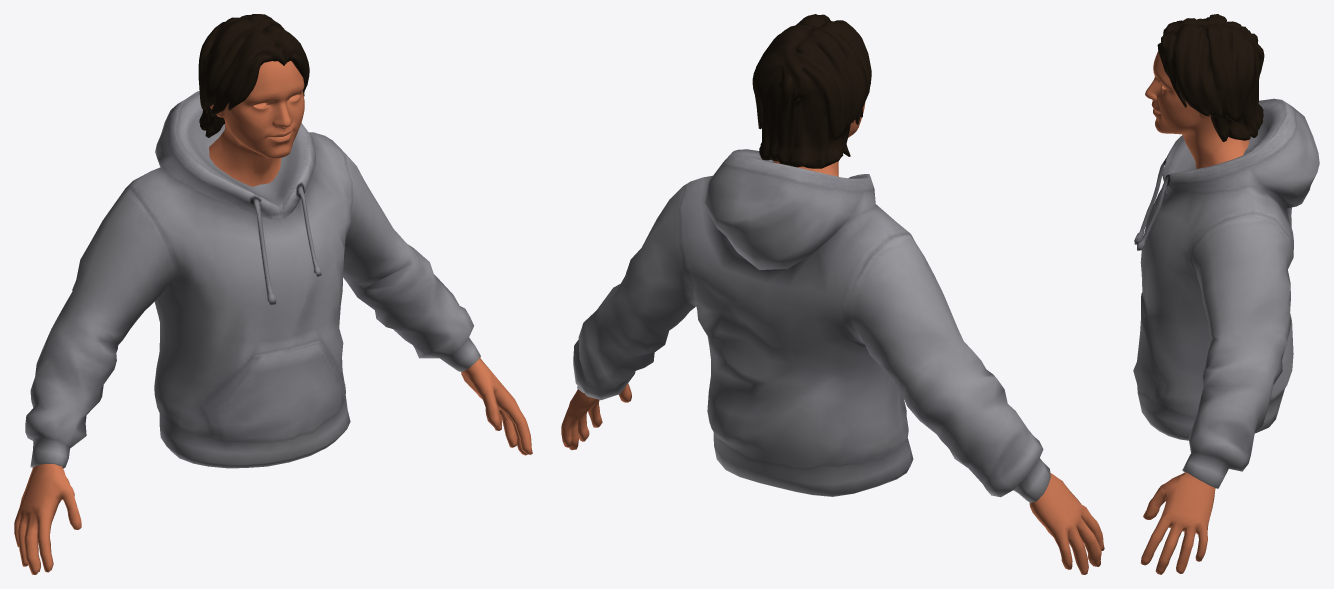
3 renders of one model, left to right at view 1: azimuth 30°, elevation 25°; view 2: azimuth 150°, elevation 25°; view 3: azimuth 270°, elevation 25°, orthographic. The views are drawn at different scales.
Parts seen in each view (by area): view 1: Wolf3D_Outfit_Top.001, Wolf3D_Head.001, Wolf3D_Hair.001, Wolf3D_Body.007; view 2: Wolf3D_Outfit_Top.001, Wolf3D_Hair.001, Wolf3D_Body.007; view 3: Wolf3D_Outfit_Top.001, Wolf3D_Hair.001, Wolf3D_Body.007, Wolf3D_Head.001.
Boxes of the visible parts, bbox=[...] form: Wolf3D_Outfit_Top.001: bbox=[25, 91, 480, 468]; Wolf3D_Head.001: bbox=[209, 61, 304, 186]; Wolf3D_Hair.001: bbox=[198, 14, 309, 137]; Wolf3D_Body.007: bbox=[14, 358, 532, 574]; Wolf3D_Outfit_Top.001: bbox=[573, 149, 1050, 502]; Wolf3D_Hair.001: bbox=[752, 14, 871, 168]; Wolf3D_Body.007: bbox=[561, 383, 1104, 574]; Wolf3D_Outfit_Top.001: bbox=[1133, 98, 1319, 488]; Wolf3D_Hair.001: bbox=[1157, 14, 1264, 141]; Wolf3D_Body.007: bbox=[1140, 472, 1215, 574]; Wolf3D_Head.001: bbox=[1145, 51, 1249, 168].
Bounding box in the file's own units: 10.29 × 9.33 × 3.56.
Materials: 3 (2 with a texture image).
